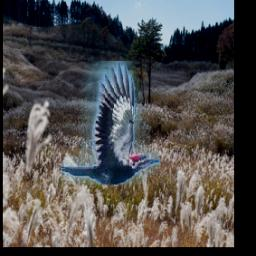Woodpecker: (61, 61, 160, 185)
